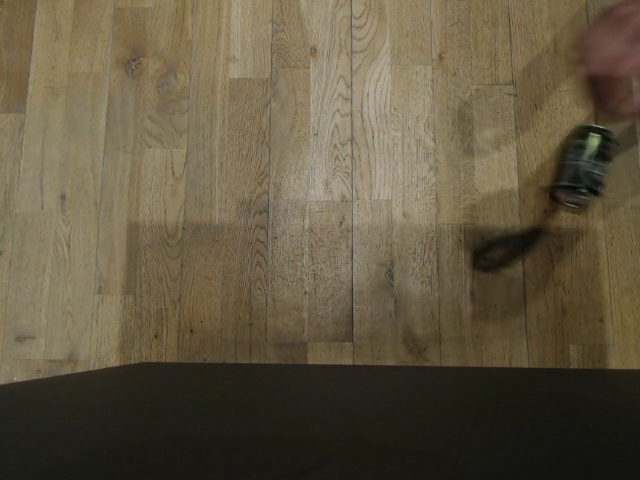beer: (551, 121, 617, 211)
